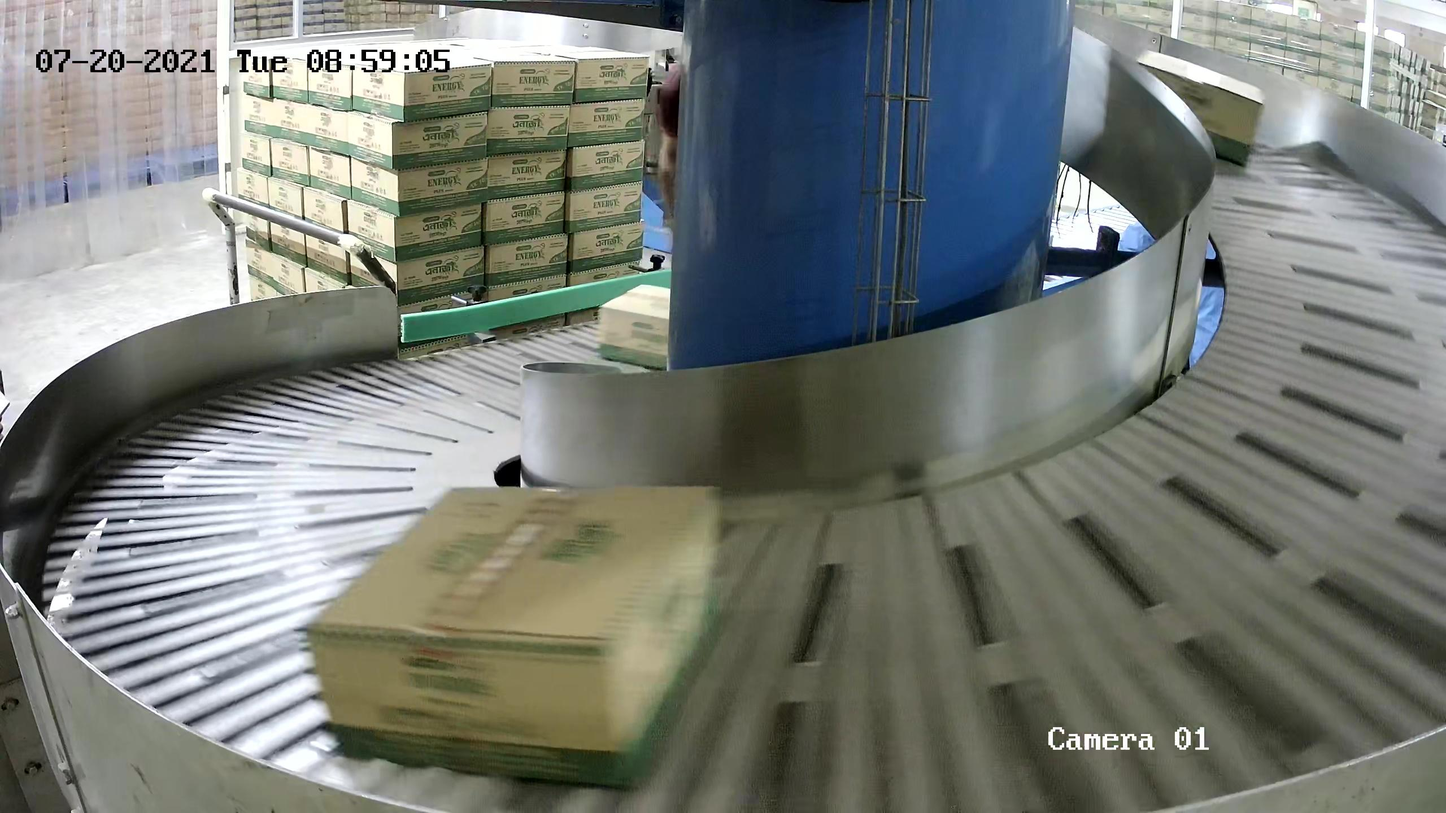Box: (299, 483, 723, 789), (1135, 48, 1264, 167), (597, 283, 671, 370)
